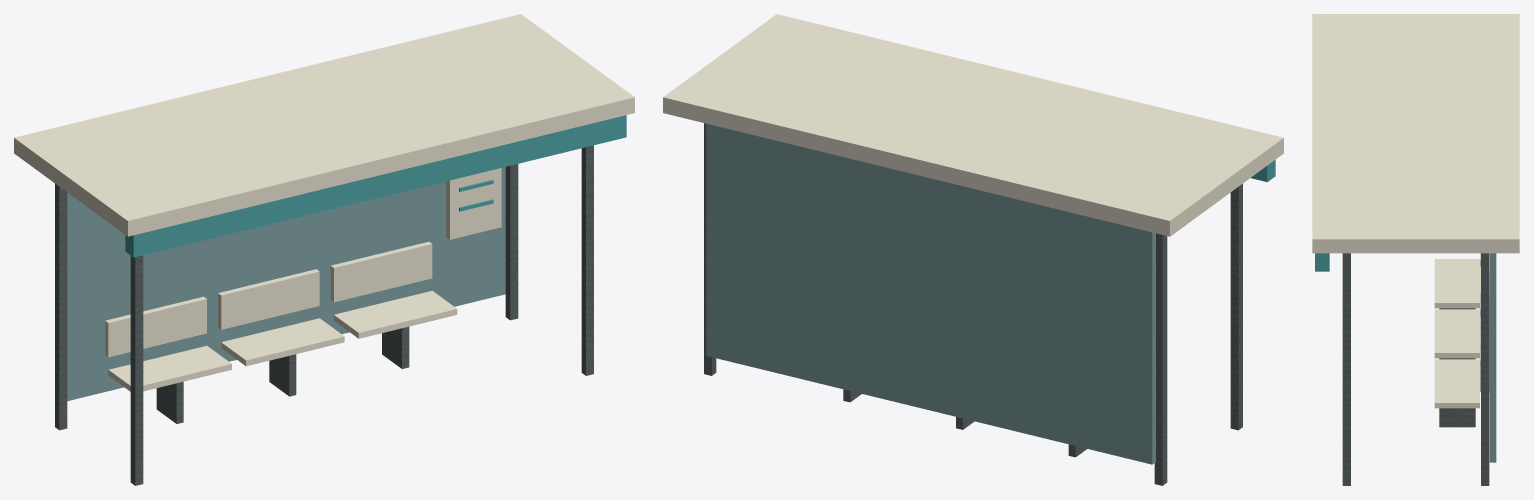
File: tw_bus_shelter.glb
3 views of the same model, side by side, from view 1: azimuth 30°, elevation 25°; view 2: azimuth 150°, elevation 25°; view 3: azimuth 270°, elevation 25° (orthographic). The views are drawn at different scales.
Parts seen in each view (by area): view 1: PaintedCream, OpaqueStoreGlazing, GalvanizedMetal, FictionalShopAccent; view 2: OpaqueStoreGlazing, PaintedCream, GalvanizedMetal; view 3: PaintedCream, GalvanizedMetal, OpaqueStoreGlazing, FictionalShopAccent.
Boxes of the visible parts, x1,y1,x2,y2 form: PaintedCream: (14,14,634,391); OpaqueStoreGlazing: (67,167,505,401); GalvanizedMetal: (55,145,593,485); FictionalShopAccent: (125,115,626,257); OpaqueStoreGlazing: (706,123,1155,464); PaintedCream: (663,14,1283,236); GalvanizedMetal: (704,123,1242,485); PaintedCream: (1312,14,1519,408); GalvanizedMetal: (1342,253,1489,485); OpaqueStoreGlazing: (1489,253,1496,462); FictionalShopAccent: (1315,253,1480,364).
Bounding box in the file's own units: 5.4 × 2.88 × 2.1.
4 materials, 1 textured.
